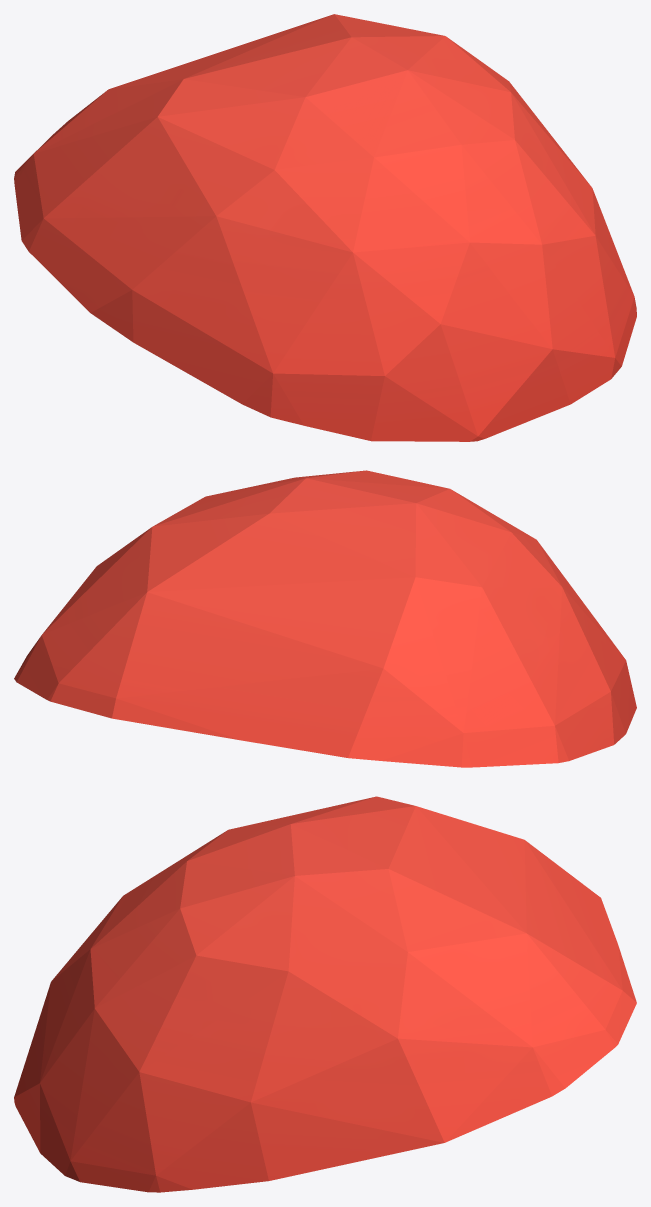
File: HeartPart_5.fbx
3 views of the same model, one above another, from view 1: azimuth 30°, elevation 25°; view 2: azimuth 150°, elevation 25°; view 3: azimuth 270°, elevation 25° (orthographic). The views are drawn at different scales.
Visible parts, largest first — view 1: HeartPart_5; view 2: HeartPart_5; view 3: HeartPart_5.
Part boxes in pixels (x1=…): HeartPart_5: x1=14, y1=14, x2=636, y2=441; HeartPart_5: x1=14, y1=470, x2=636, y2=767; HeartPart_5: x1=14, y1=796, x2=636, y2=1192.
Bounding box in the file's own units: 41.32 × 19.74 × 42.54.
Materials: 1 (1 with a texture image).
